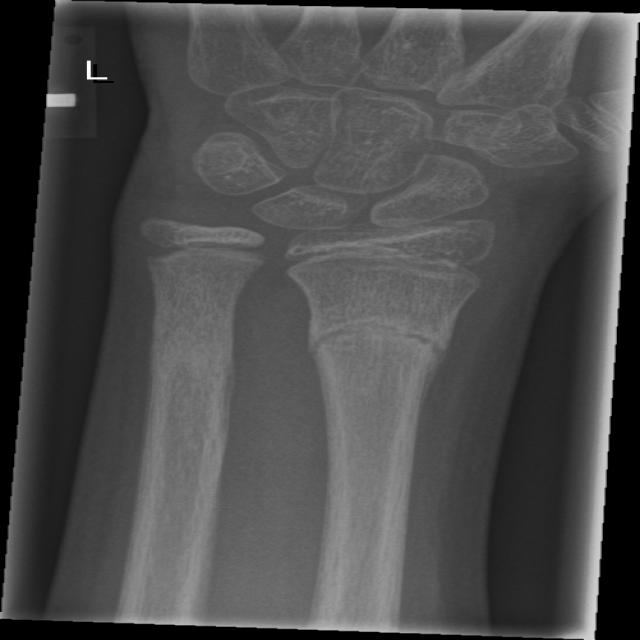radius fracture: (285, 291, 487, 416)
